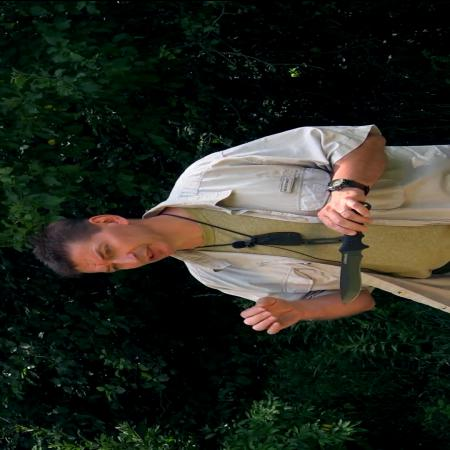long weapon: (316, 199, 376, 306)
